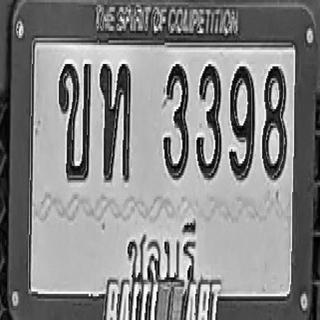A02: (58, 60, 91, 182)
A23: (100, 62, 131, 180)
N03: (163, 63, 188, 179), (196, 63, 221, 179)
N08: (262, 63, 287, 179)
N09: (229, 64, 254, 180)
P13: (125, 209, 199, 290)
